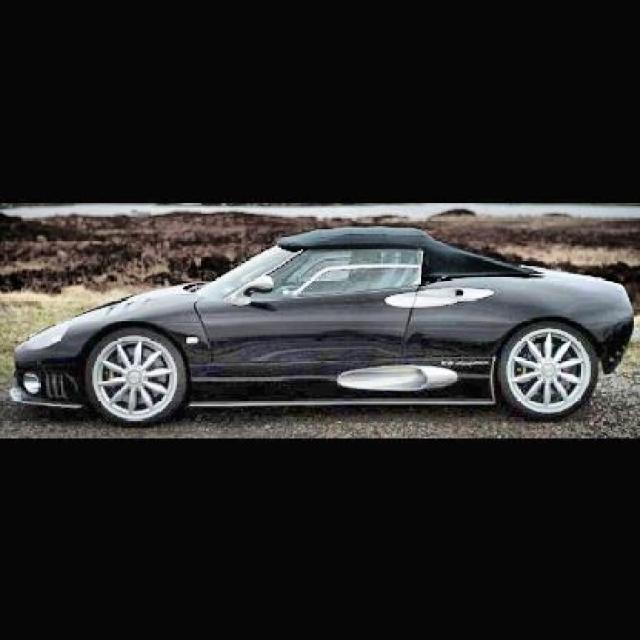black: (9, 224, 636, 427)
